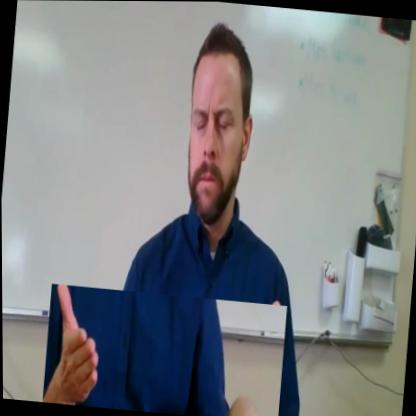Expensive: (41, 283, 286, 416)
